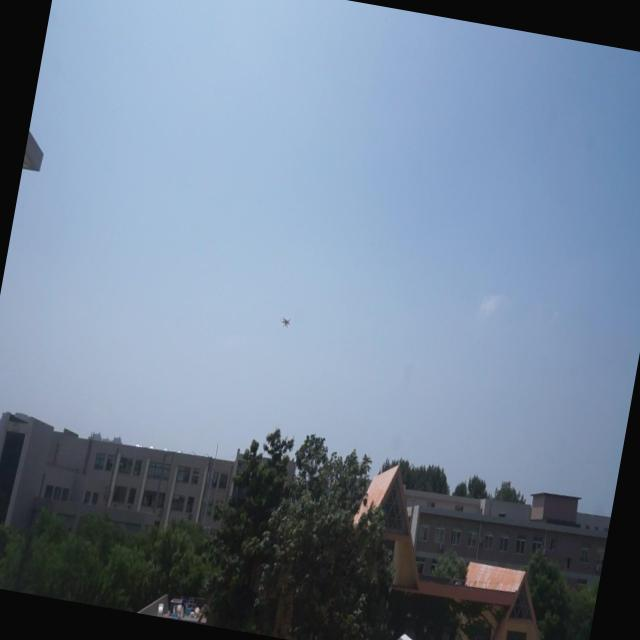drone: (278, 314, 292, 330)
